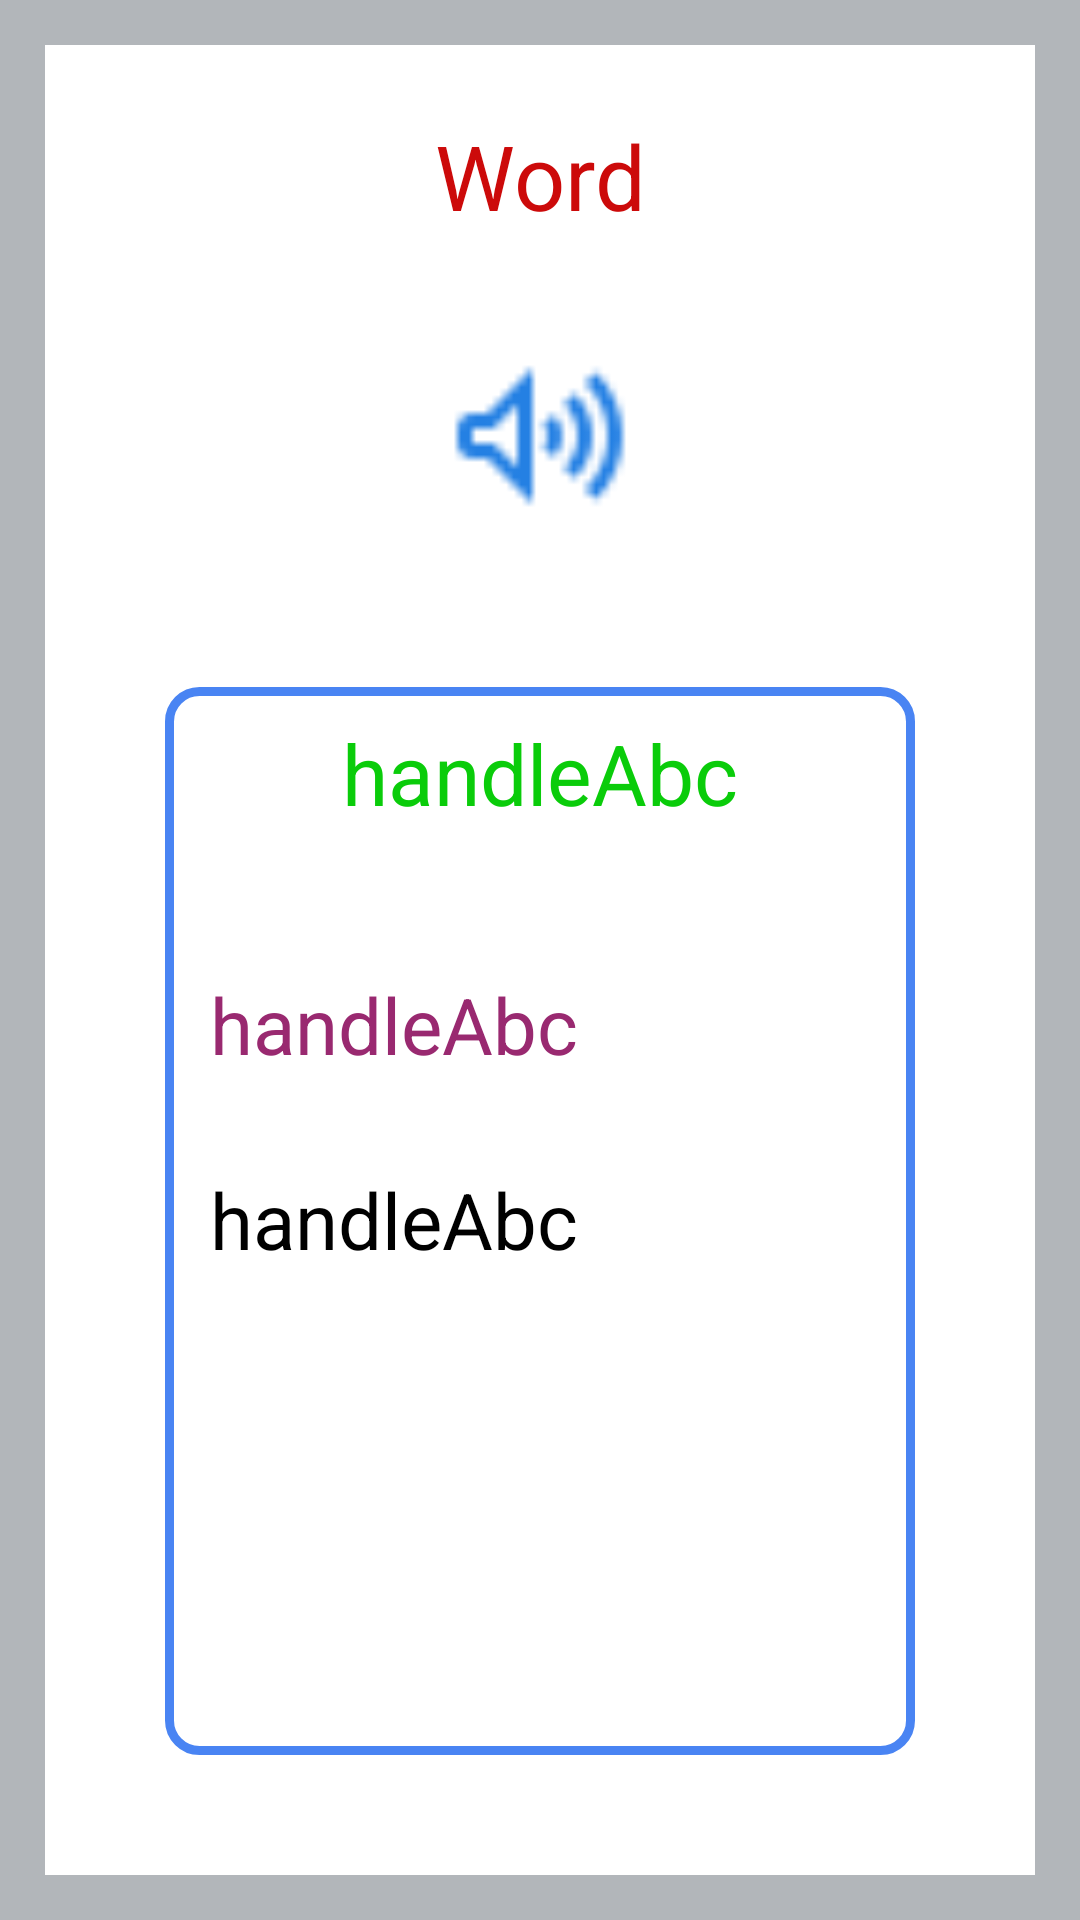

Where icons sit on this 1080 x 1920 app screen, as (x1, y1, x2, y2):
voi: (455, 366, 625, 506)
